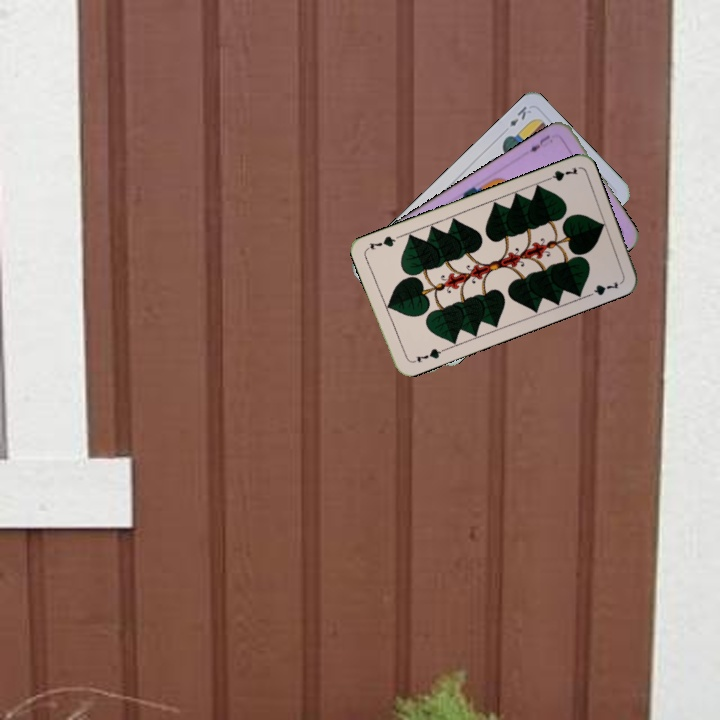EK: (505, 102, 534, 129)
EU: (525, 131, 553, 155)
G7: (408, 344, 447, 366), (540, 163, 580, 184)
